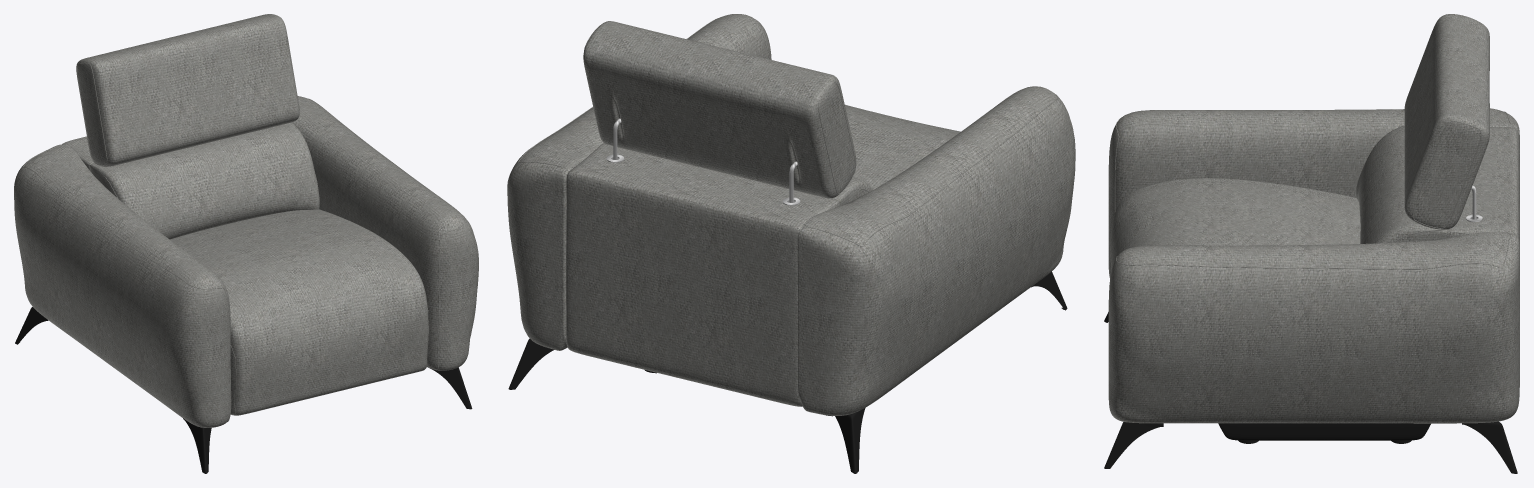
File: meiple.glb
3 views of the same model, side by side, from view 1: azimuth 30°, elevation 25°; view 2: azimuth 150°, elevation 25°; view 3: azimuth 270°, elevation 25° (orthographic). The views are drawn at different scales.
Visible parts, largest first — view 1: object 26, object 3, object 18, object 24, object 20, pé (×2), D=~ 0,00 m; view 2: object 26, object 9, object 18, object 24, object 3, pé (×2); view 3: object 24, object 26, object 3, object 18, object 20, object 9, object 1, pé (×2), D=~ 0,00 m.
Part boxes in pixels (x1,y1,x2,y2): object 26: (14, 144, 231, 427); object 3: (170, 209, 428, 415); object 18: (76, 14, 299, 166); object 24: (292, 96, 478, 370); object 20: (90, 122, 319, 239); pé (×2): (183, 366, 472, 473); D=~ 0,00 m: (23, 144, 230, 421); object 26: (797, 86, 1075, 415); object 9: (566, 143, 840, 406); object 18: (583, 21, 856, 198); object 24: (507, 14, 771, 350); object 3: (845, 104, 960, 189); pé (×2): (508, 338, 865, 473); object 24: (1108, 231, 1519, 423); object 26: (1108, 108, 1519, 278); object 3: (1110, 178, 1360, 272); object 18: (1404, 14, 1489, 229); object 20: (1356, 125, 1447, 243); object 9: (1446, 127, 1519, 244); object 1: (1218, 423, 1430, 440); pé (×2): (1104, 421, 1517, 473); D=~ 0,00 m: (1116, 232, 1510, 269).
Bounding box in the file's own units: 0.9897 × 0.8923 × 1.01.
Materials: 4 (2 with a texture image).
